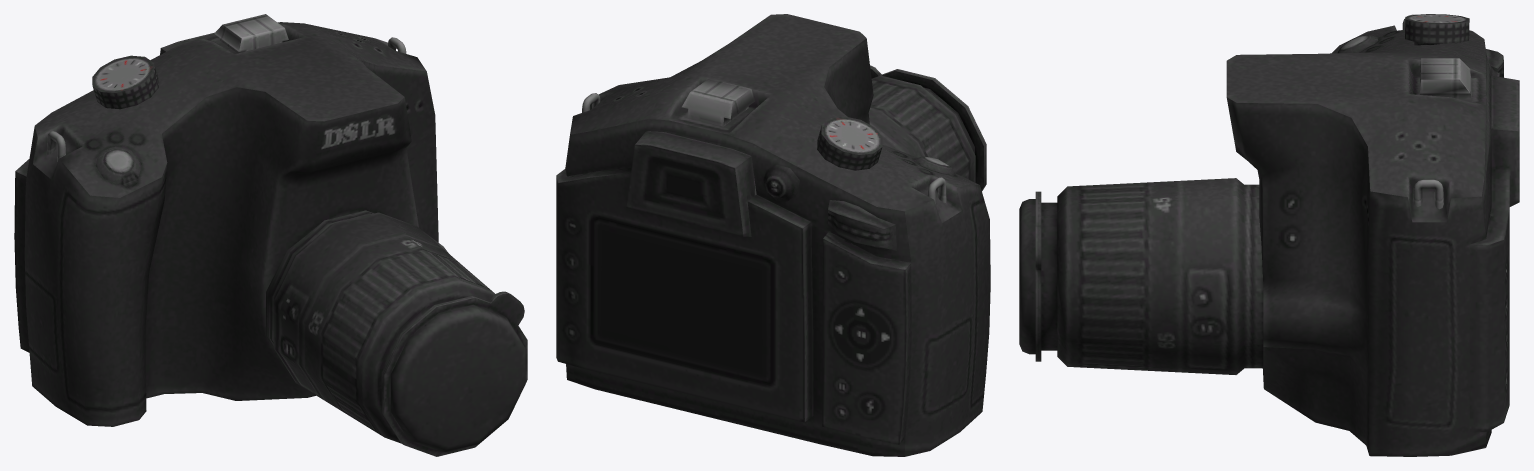
File: dslr_camera.dae
3 renders of one model, left to right at view 1: azimuth 30°, elevation 25°; view 2: azimuth 150°, elevation 25°; view 3: azimuth 270°, elevation 25°, orthographic. The views are drawn at different scales.
Parts seen in each view (by area): view 1: low; view 2: low; view 3: low.
Part boxes in pixels (x1,y1,x2,y2): low: (14, 14, 527, 456); low: (556, 14, 990, 456); low: (1019, 14, 1519, 456).
Bounding box in the file's own units: 0.2446 × 0.1903 × 0.2756.
